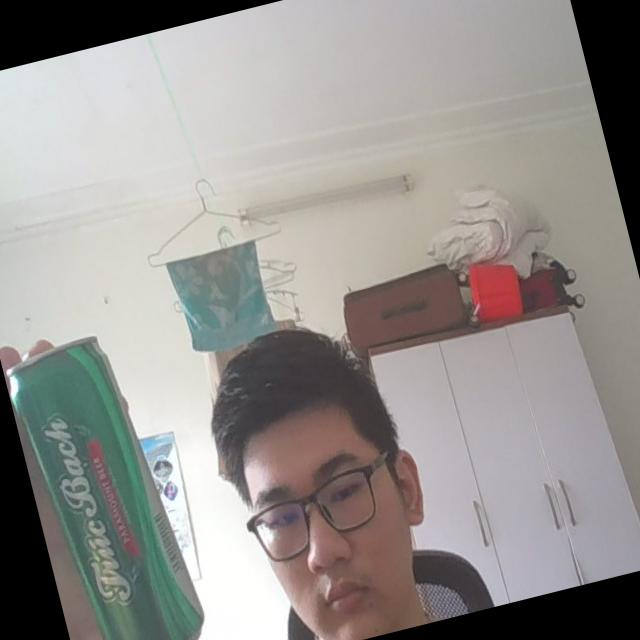Bia-Truc-Bach: (0, 319, 217, 640)
